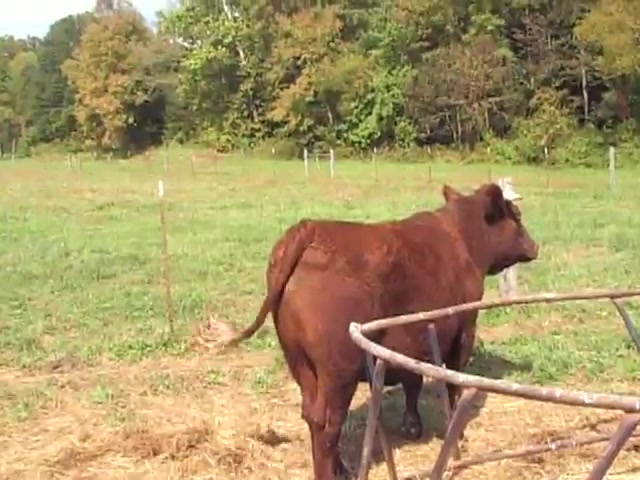cow: (228, 184, 543, 480)
